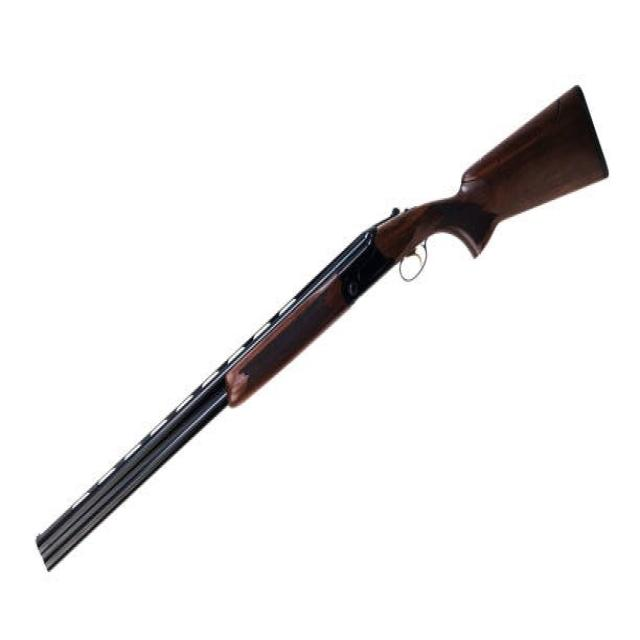rifle: (34, 78, 608, 575)
